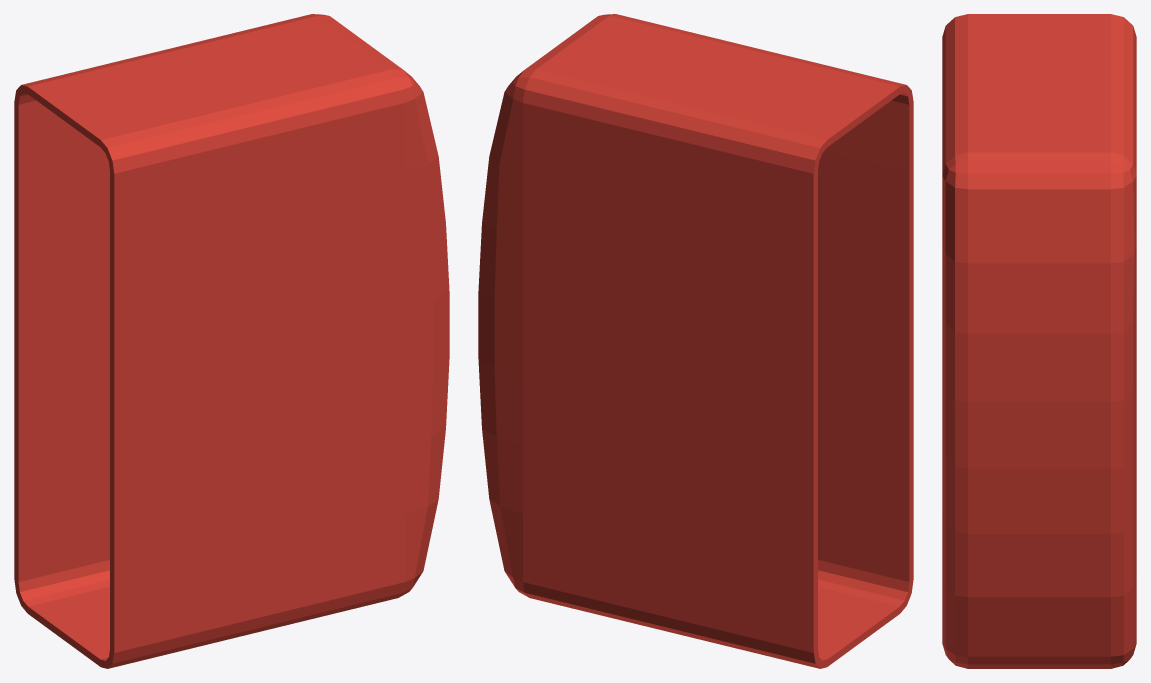
The model's file is zippoLid.fbx.
3 views of the same model, side by side, from view 1: azimuth 30°, elevation 25°; view 2: azimuth 150°, elevation 25°; view 3: azimuth 270°, elevation 25° (orthographic). The views are drawn at different scales.
Visible parts, largest first — view 1: LID; view 2: LID; view 3: LID.
Part boxes in pixels (x1,y1,x2,y2): LID: (14, 14, 449, 668); LID: (478, 14, 913, 668); LID: (942, 14, 1136, 668).
Size of the model in its own units: 23.97 by 12 by 35.
